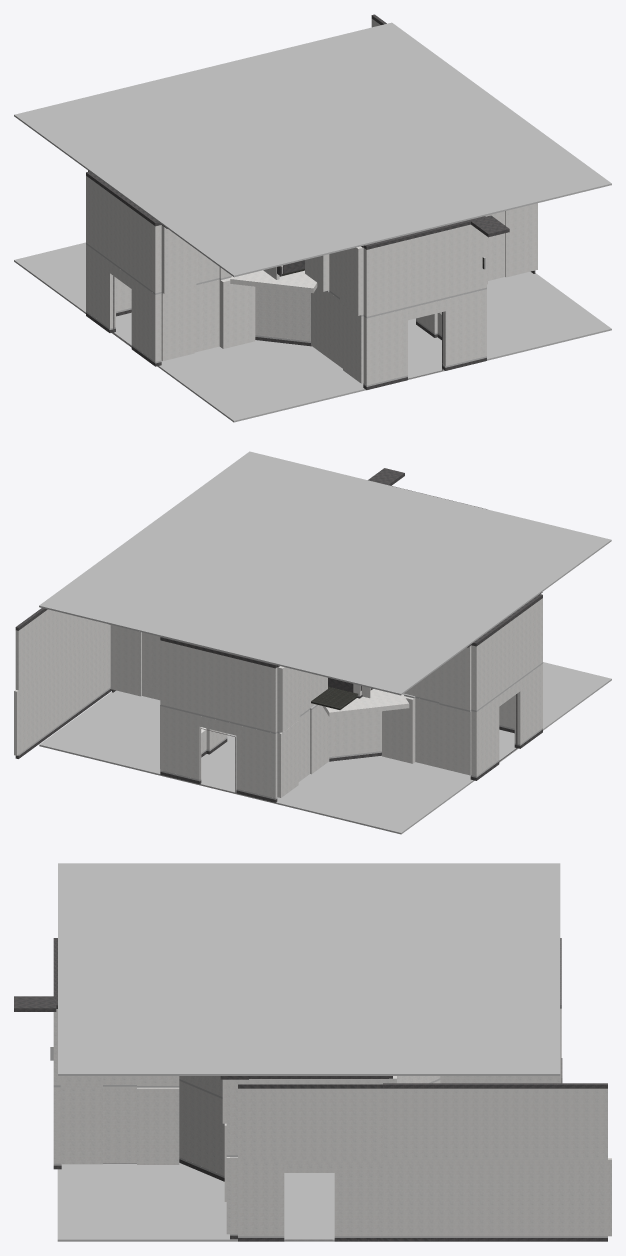
Rendered from scp_room_4wayalt.dae.
3 views of the same model, one above another, from view 1: azimuth 30°, elevation 25°; view 2: azimuth 150°, elevation 25°; view 3: azimuth 270°, elevation 25° (orthographic). The views are drawn at different scales.
Visible parts, largest first — view 1: SCP 4 Ways.011, SCP 4 Ways.006, SCP 4 Ways, SCP 4 Ways.001, SCP 4 Ways.005; view 2: SCP 4 Ways.011, SCP 4 Ways.006, SCP 4 Ways, SCP 4 Ways.001, SCP 4 Ways.005, SCP 4 Ways.010; view 3: SCP 4 Ways.011, SCP 4 Ways.006, SCP 4 Ways, SCP 4 Ways.001, SCP 4 Ways.005.
Boxes of the visible parts, left/top/right/bottom form: SCP 4 Ways.011: left=14, top=22, right=611, bottom=277; SCP 4 Ways.006: left=86, top=19, right=537, bottom=385; SCP 4 Ways: left=14, top=242, right=611, bottom=422; SCP 4 Ways.001: left=86, top=14, right=535, bottom=389; SCP 4 Ways.005: left=86, top=243, right=486, bottom=386; SCP 4 Ways.011: left=39, top=451, right=611, bottom=695; SCP 4 Ways.006: left=14, top=598, right=542, bottom=798; SCP 4 Ways: left=39, top=662, right=611, bottom=834; SCP 4 Ways.001: left=15, top=468, right=542, bottom=802; SCP 4 Ways.005: left=17, top=632, right=542, bottom=799; SCP 4 Ways.010: left=311, top=686, right=358, bottom=708; SCP 4 Ways.011: left=58, top=863, right=560, bottom=1075; SCP 4 Ways.006: left=53, top=1008, right=611, bottom=1236; SCP 4 Ways: left=57, top=1163, right=334, bottom=1241; SCP 4 Ways.001: left=14, top=938, right=607, bottom=1241; SCP 4 Ways.005: left=53, top=1078, right=607, bottom=1237.
Size of the model in its own units: 50.52 by 59.5 by 18.4.
